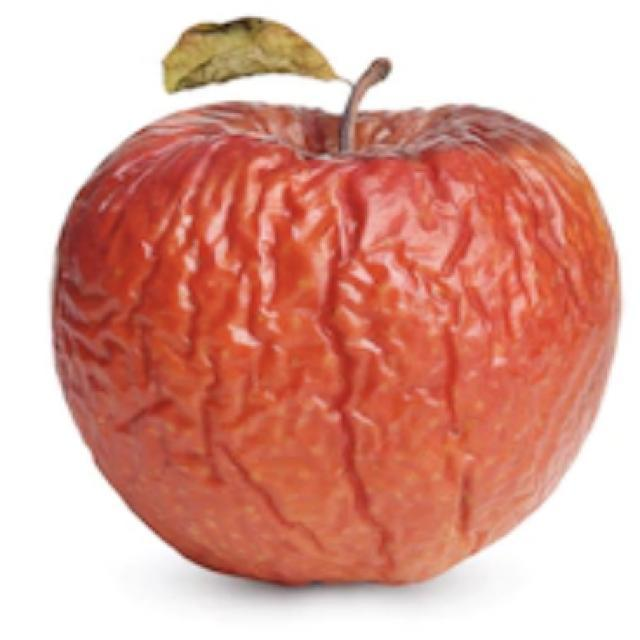Rotten: (51, 88, 630, 592)
